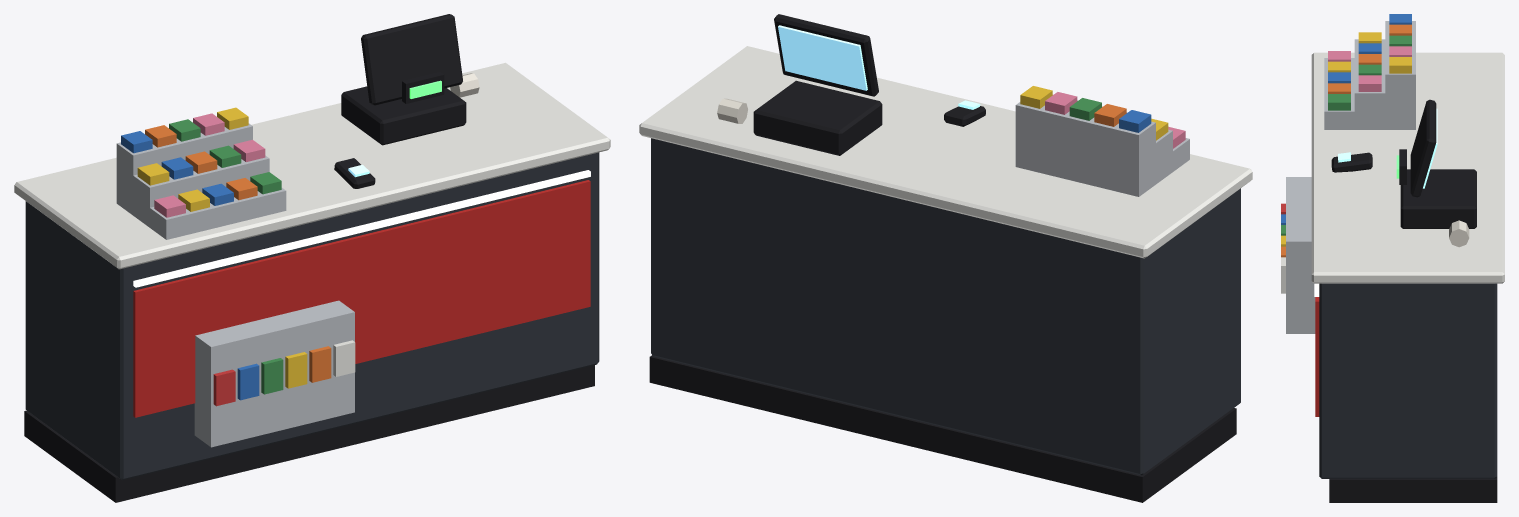
Rendered from Counter_Checkout_Station.glb.
The picture shows the model from 3 angles, left to right: view 1: azimuth 30°, elevation 25°; view 2: azimuth 150°, elevation 25°; view 3: azimuth 270°, elevation 25°; orthographic projection. The views are drawn at different scales.
Visible parts, largest first — view 1: Counter_Checkout_Station; view 2: Counter_Checkout_Station; view 3: Counter_Checkout_Station.
Part boxes in pixels (x1=…): Counter_Checkout_Station: x1=14, y1=14, x2=610, y2=502; Counter_Checkout_Station: x1=639, y1=14, x2=1252, y2=502; Counter_Checkout_Station: x1=1281, y1=14, x2=1504, y2=502.
Size of the model in its own units: 2.06 by 1.41 by 0.88.
Materials: 1 (1 with a texture image).
